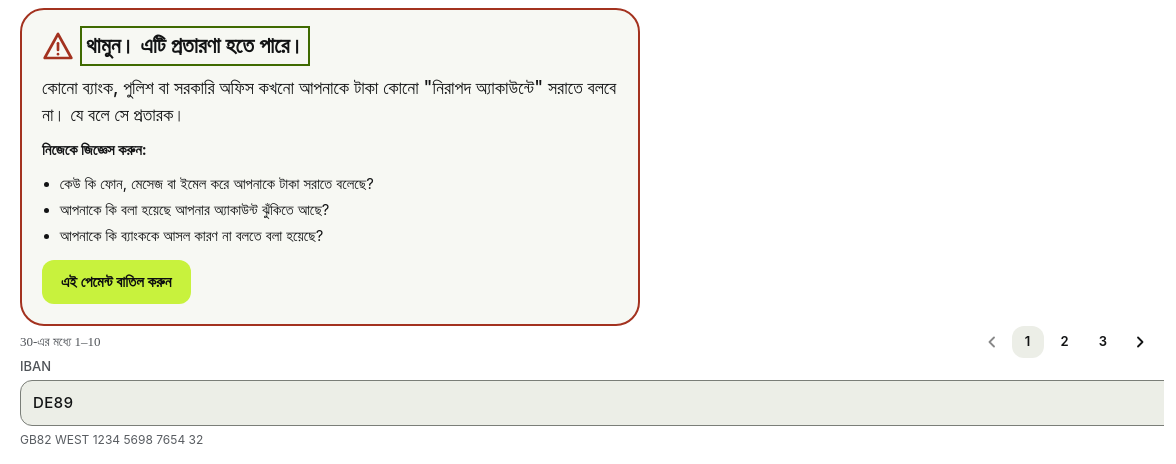
Test case: PunjiLocaleProvider › localises scam copy, pagination and payment field messages
The width and height of the screenshot is (1176, 464).
Check: the button named "পরের পৃষ্ঠা" is shown, box [1124,326,1156,358]
Click the field labelled "IBAN": x=592, y=403 [20,380,1164,426]
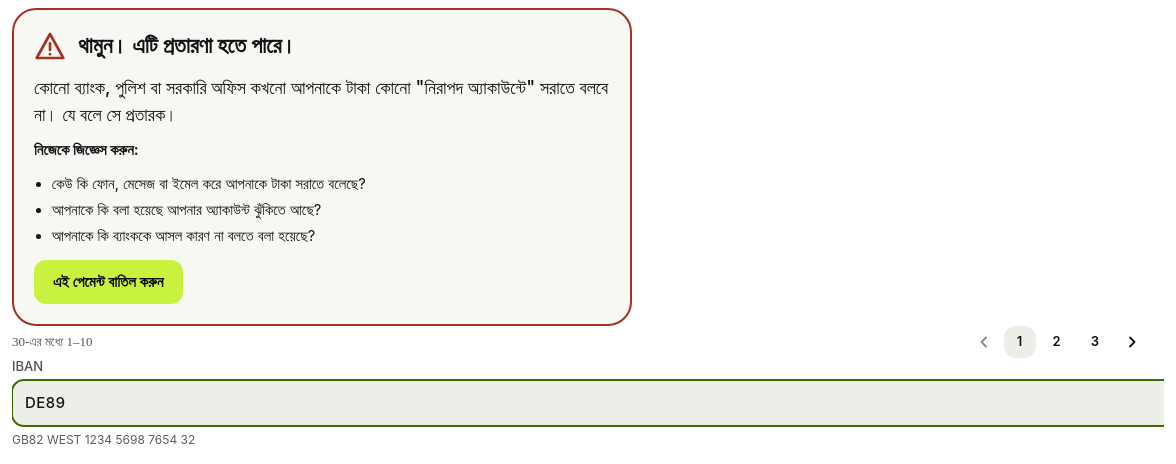
Press Tab
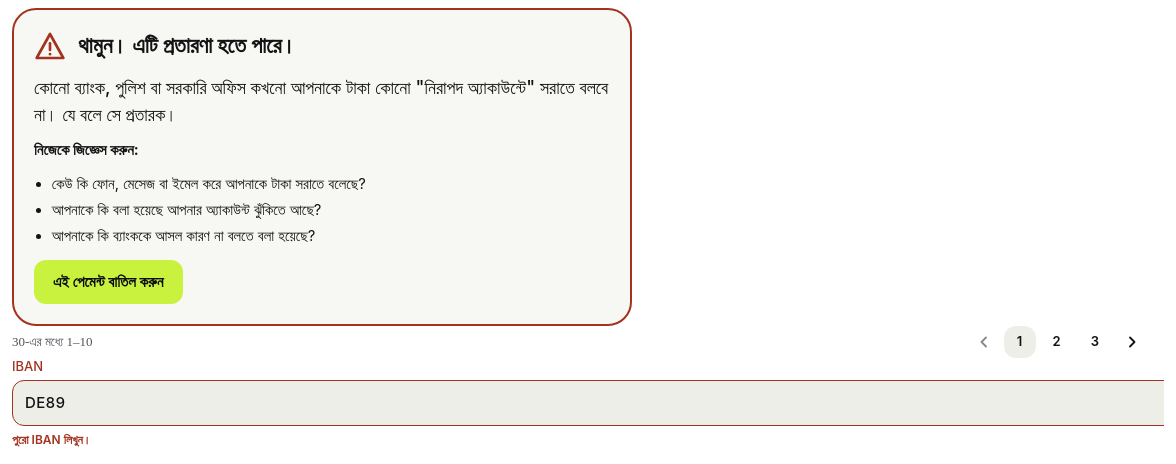
Check: the text with class "err" reads "পুরো IBAN লিখুন।", box [12,432,91,447]
